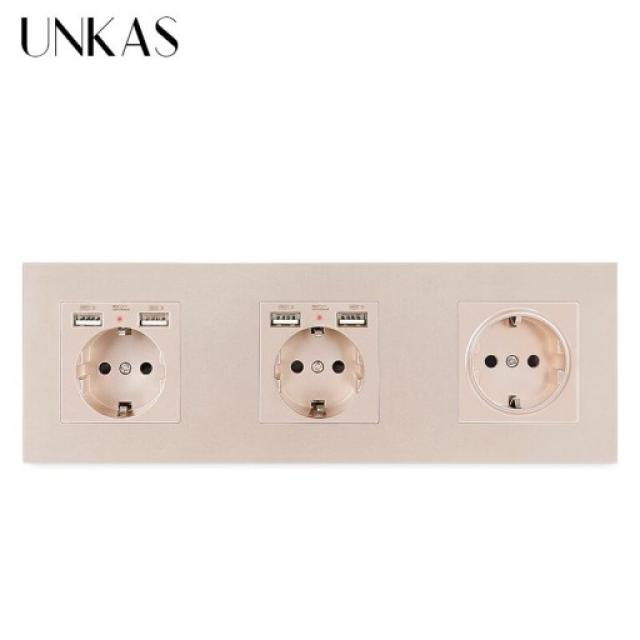typeb: (19, 242, 638, 503)
